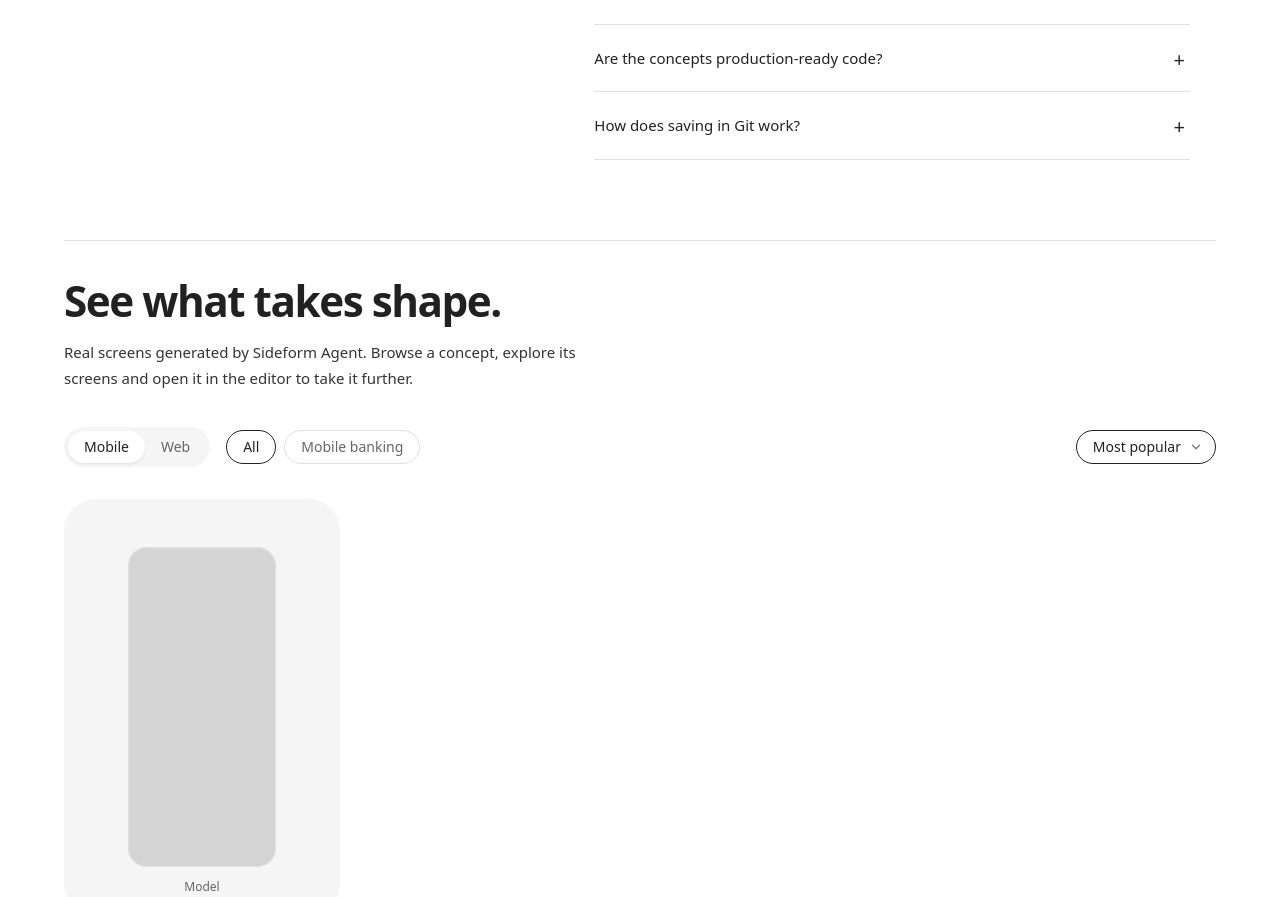
Test: <ShowcasePage /> filters › clicking the Web toggle requests platform=desktop, writes it to the URL, and re-fetches categories for the new platform
The image size is (1280, 897).
(page scrolled)
Click the button "Web". click: (176, 447)
box: [145,431,206,463]
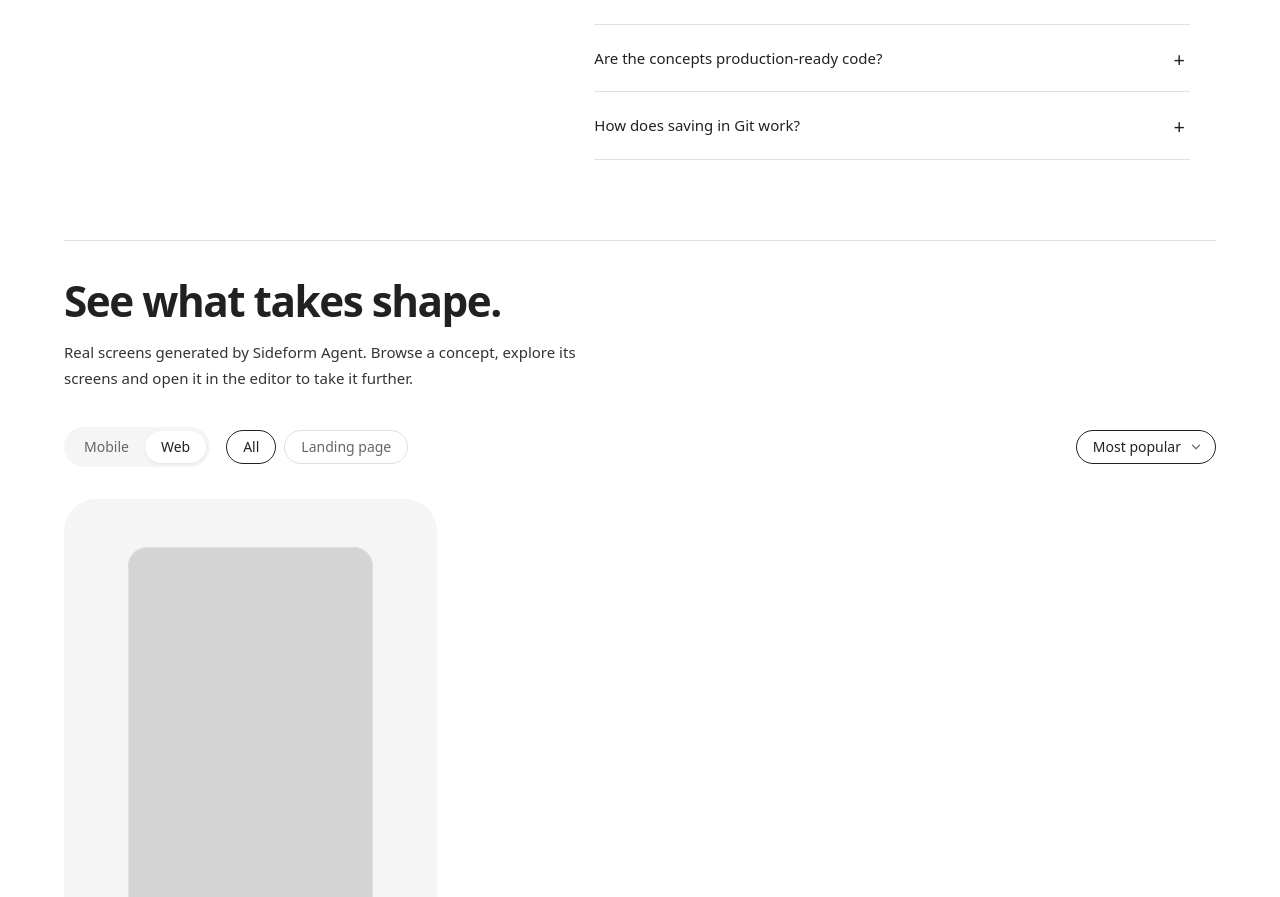
Expected: the button "Landing page" is shown, [284,430,408,464]
Expected: the button "Mobile banking" is gone
